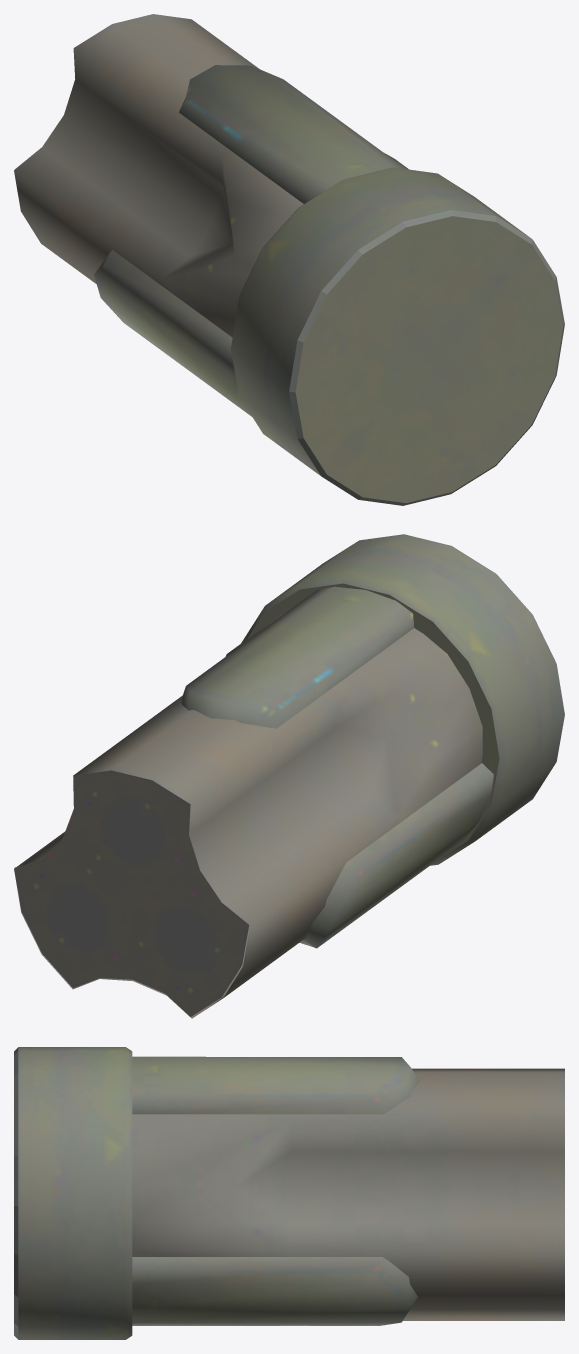
Rendered from barrel1.obj.
The picture shows the model from 3 angles, top to bottom: view 1: azimuth 30°, elevation 25°; view 2: azimuth 150°, elevation 25°; view 3: azimuth 270°, elevation 25°; orthographic projection. The views are drawn at different scales.
Parts seen in each view (by area): view 1: barrel1; view 2: barrel1; view 3: barrel1.
Part boxes in pixels (x1=…): barrel1: x1=14, y1=14, x2=564, y2=505; barrel1: x1=14, y1=534, x2=564, y2=1018; barrel1: x1=14, y1=1047, x2=564, y2=1339.
Bounding box in the file's own units: 17.17 × 16.91 × 32.18.
